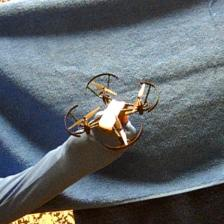drone: (63, 71, 160, 149)
